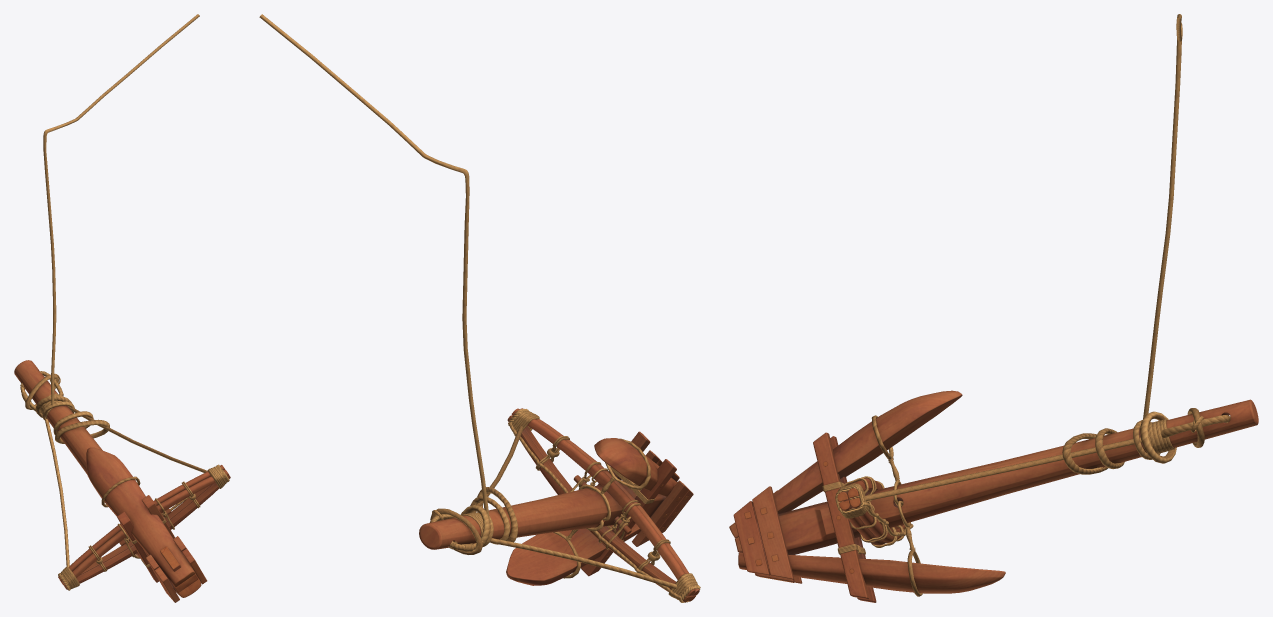
The model's file is SM_Mado_Anchor.fbx.
3 renders of one model, left to right at view 1: azimuth 30°, elevation 25°; view 2: azimuth 150°, elevation 25°; view 3: azimuth 270°, elevation 25°, orthographic. The views are drawn at different scales.
Visible parts, largest first — view 1: SM_Mado_Anchor; view 2: SM_Mado_Anchor; view 3: SM_Mado_Anchor.
Part boxes in pixels (x1,y1,x2,y2): SM_Mado_Anchor: [14, 14, 230, 602]; SM_Mado_Anchor: [259, 14, 700, 602]; SM_Mado_Anchor: [729, 14, 1258, 602].
Size of the model in its own units: 240 by 310 by 450.
Materials: 2 (2 with a texture image).
